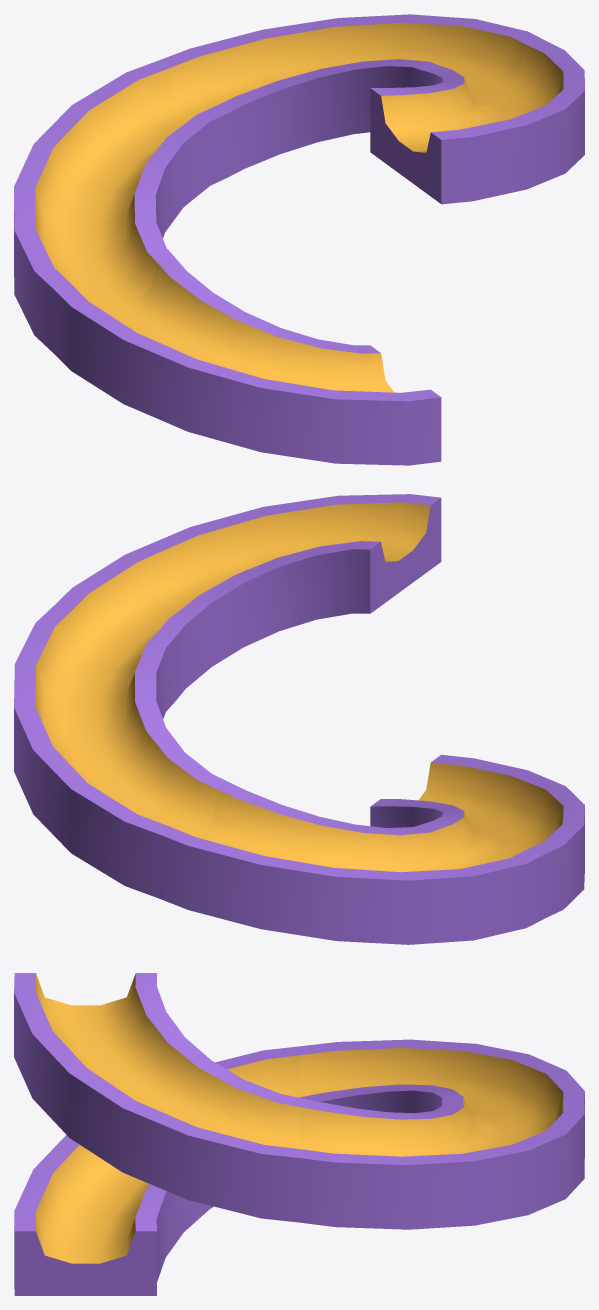
The model's file is kenney-marble-helix-right.glb.
3 renders of one model, top to bottom at view 1: azimuth 30°, elevation 25°; view 2: azimuth 150°, elevation 25°; view 3: azimuth 270°, elevation 25°, orthographic.
Parts seen in each view (by area): view 1: helix-right; view 2: helix-right; view 3: helix-right.
Part boxes in pixels (x1,y1,x2,y2): helix-right: (14,14,584,465); helix-right: (14,494,584,944); helix-right: (14,973,584,1295).
Bounding box in the file's own units: 4.01 × 2.5 × 4.01.
1 material, 1 textured.
